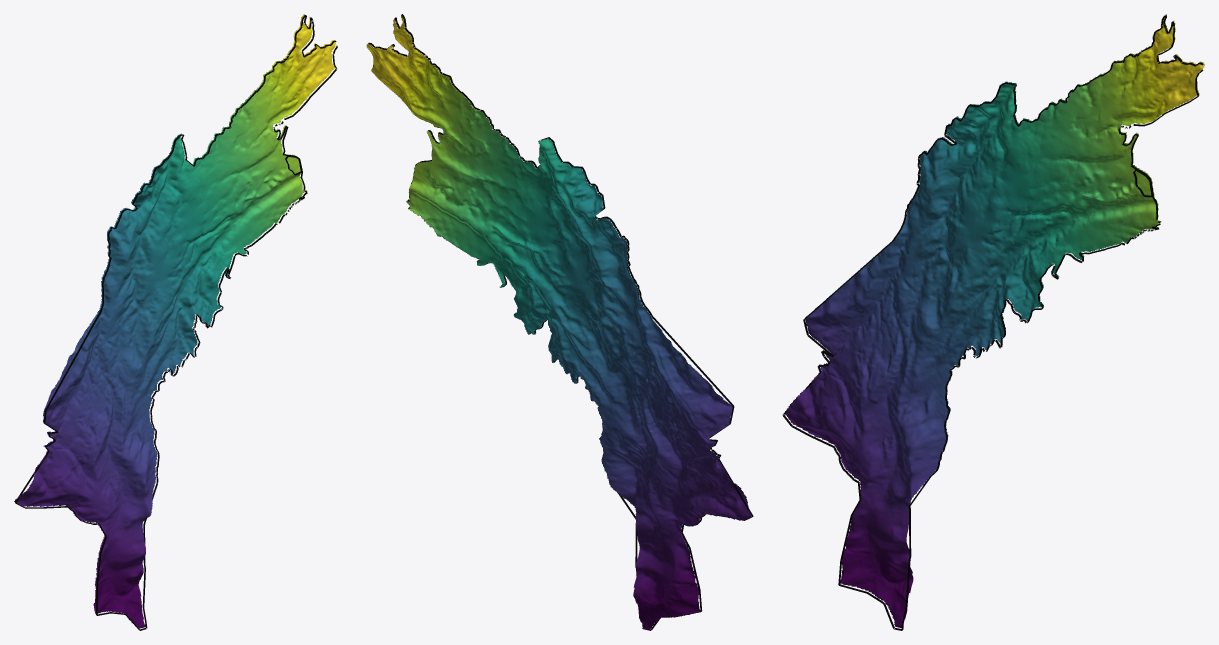
3 renders of one model, left to right at view 1: azimuth 30°, elevation 25°; view 2: azimuth 150°, elevation 25°; view 3: azimuth 330°, elevation 25°, orthographic. The views are drawn at different scales.
Parts seen in each view (by area): view 1: world; view 2: world; view 3: world.
Boxes of the visible parts, bbox=[...] form: world: bbox=[14, 14, 337, 630]; world: bbox=[366, 14, 753, 630]; world: bbox=[782, 14, 1204, 630].
Size of the model in its own units: 12.44 by 19.09 by 2.27.
2 materials, 1 textured.
